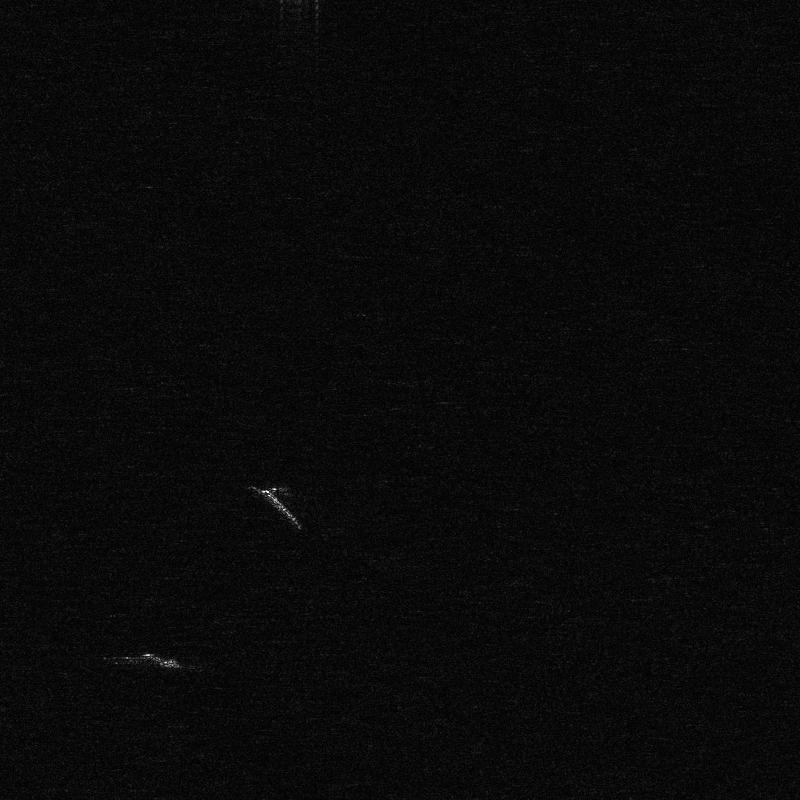ship: (252, 486, 300, 528), (141, 653, 179, 668)
